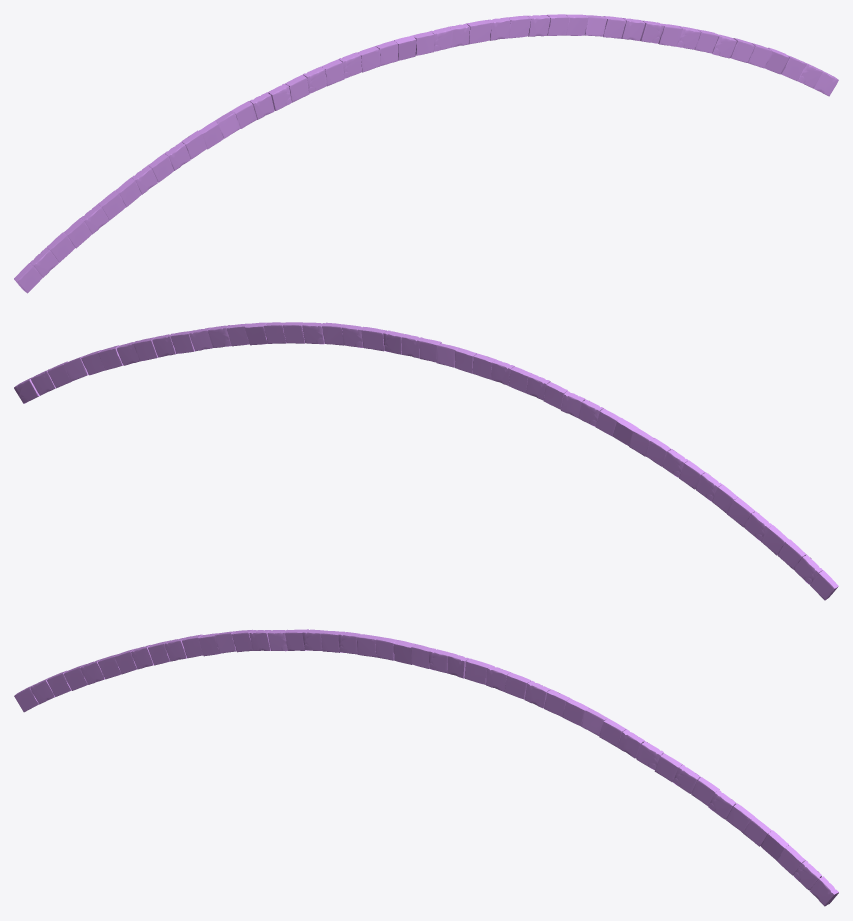
File: Bridge_Big_01_side_01.fbx
3 views of the same model, one above another, from view 1: azimuth 30°, elevation 25°; view 2: azimuth 150°, elevation 25°; view 3: azimuth 330°, elevation 25° (orthographic).
Parts seen in each view (by area): view 1: Bridge_Big_01_side_01_LOD0; view 2: Bridge_Big_01_side_01_LOD0; view 3: Bridge_Big_01_side_01_LOD0.
Boxes of the visible parts, x1,y1,x2,y2 form: Bridge_Big_01_side_01_LOD0: (14,14,838,293); Bridge_Big_01_side_01_LOD0: (14,322,838,600); Bridge_Big_01_side_01_LOD0: (14,629,838,906).
Size of what is drawn, in the model's own units: 3237 by 605 by 39.18.
